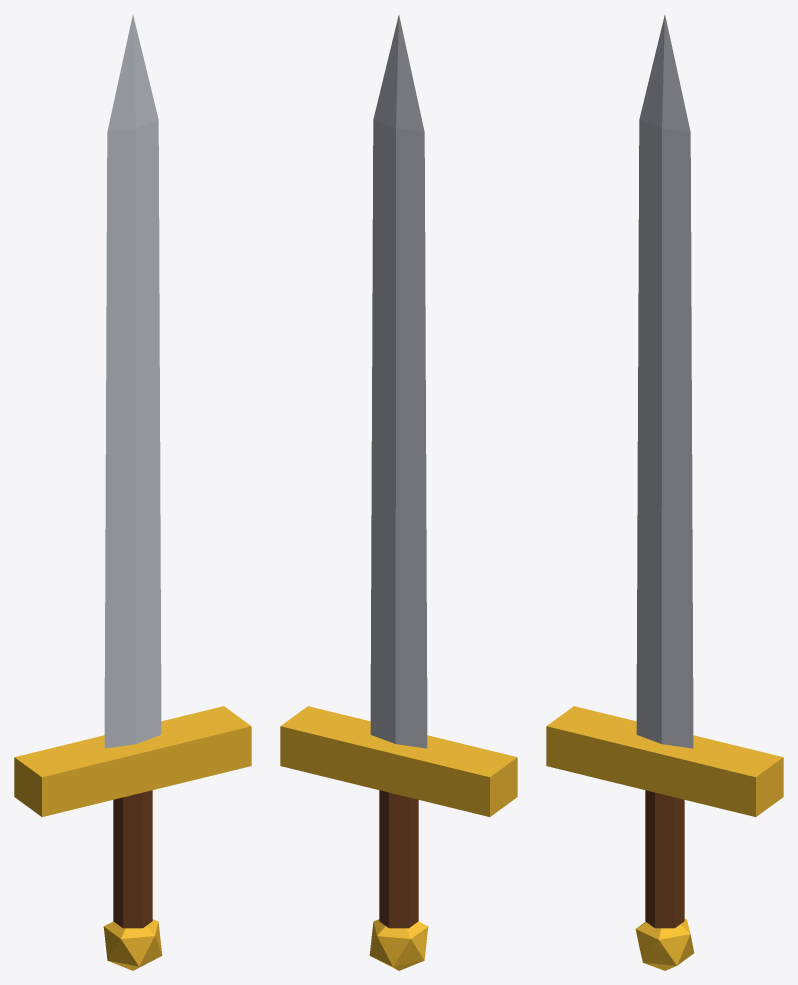
Rendered from sword.fbx.
3 views of the same model, side by side, from view 1: azimuth 30°, elevation 25°; view 2: azimuth 150°, elevation 25°; view 3: azimuth 330°, elevation 25° (orthographic).
Parts seen in each view (by area): view 1: sword; view 2: sword; view 3: sword.
Boxes of the visible parts, bbox=[...] form: sword: bbox=[14, 15, 251, 970]; sword: bbox=[280, 15, 517, 970]; sword: bbox=[546, 15, 783, 970].
Bounding box in the file's own units: 0.22 × 0.96 × 0.051.
